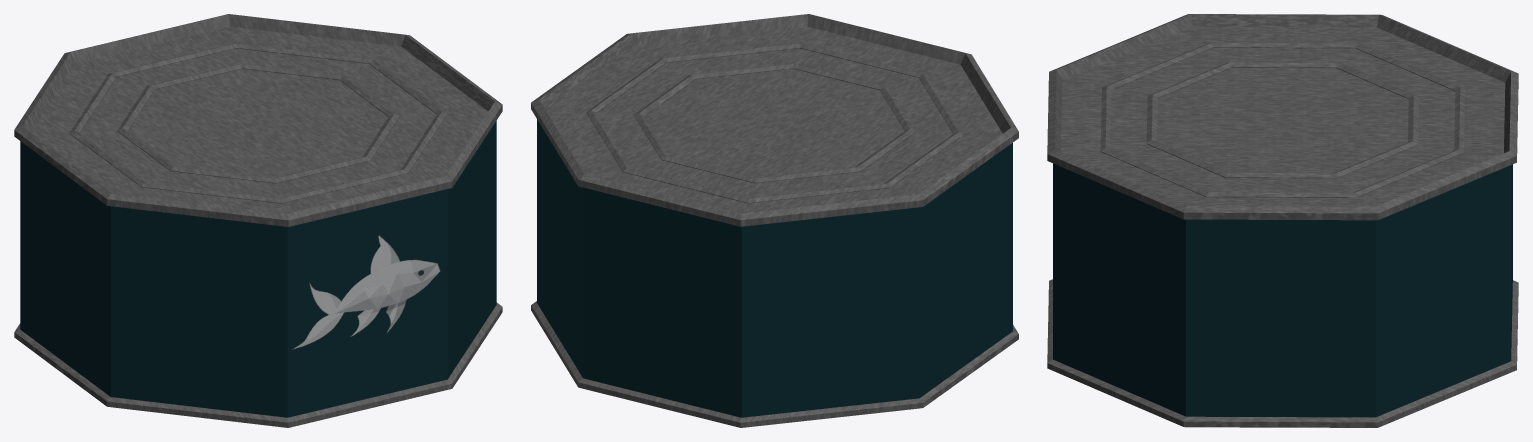
Rendered from Canned Food.fbx.
3 views of the same model, side by side, from view 1: azimuth 30°, elevation 25°; view 2: azimuth 150°, elevation 25°; view 3: azimuth 270°, elevation 25° (orthographic). The views are drawn at different scales.
Visible parts, largest first — view 1: Canned Food; view 2: Canned Food; view 3: Canned Food.
Boxes of the visible parts, x1,y1,x2,y2 form: Canned Food: (14,14,502,427); Canned Food: (531,14,1018,427); Canned Food: (1047,14,1518,427).
Size of the model in its own units: 20.77 by 10.75 by 20.77.
2 materials, 2 textured.
